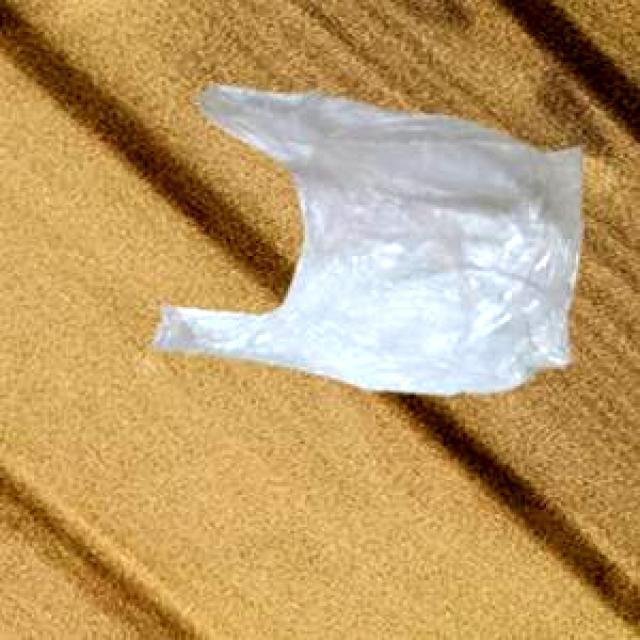Plastic_Bag: (148, 82, 579, 392)
